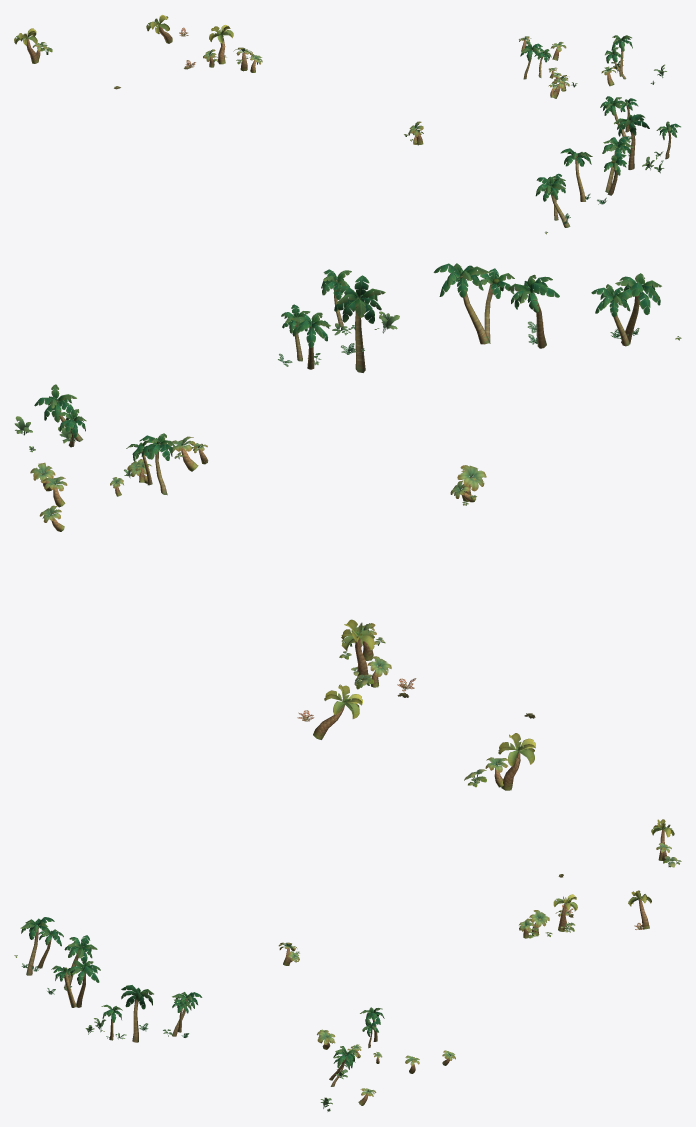
The model's file is pref_sm_4v4beachtech_bk_topblock_L02_lv2.fbx.
3 views of the same model, one above another, from view 1: azimuth 30°, elevation 25°; view 2: azimuth 150°, elevation 25°; view 3: azimuth 270°, elevation 25° (orthographic). The views are drawn at different scales.
Parts seen in each view (by area): view 1: pref_sm_4v4beachtech_bk_topblock_L02_lv2; view 2: pref_sm_4v4beachtech_bk_topblock_L02_lv2; view 3: pref_sm_4v4beachtech_bk_topblock_L02_lv2.
Boxes of the visible parts, left/top/right/bottom form: pref_sm_4v4beachtech_bk_topblock_L02_lv2: left=14, top=15, right=680, bottom=234; pref_sm_4v4beachtech_bk_topblock_L02_lv2: left=14, top=263, right=681, bottom=790; pref_sm_4v4beachtech_bk_topblock_L02_lv2: left=14, top=819, right=681, bottom=1111.
Bounding box in the file's own units: 79.23 × 11.91 × 89.8.
